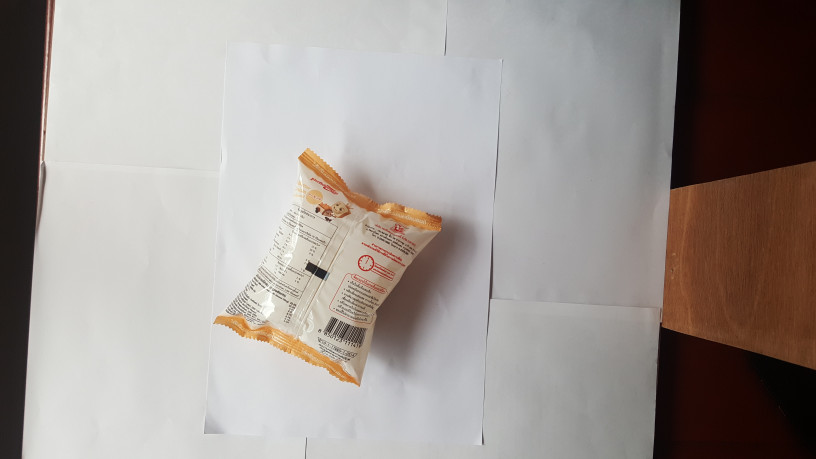farmhouse-sweetsandwich-almond: (201, 137, 451, 398)
